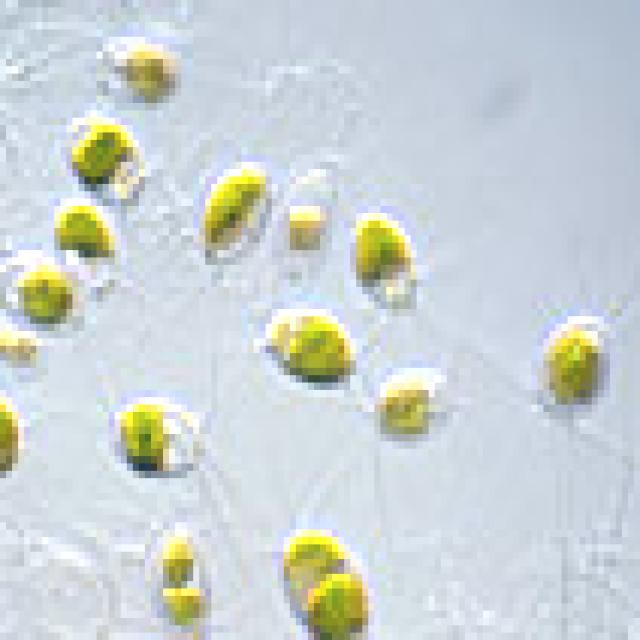Green Algae: (72, 368, 236, 522), (254, 463, 386, 640), (513, 280, 640, 456), (344, 191, 453, 353), (181, 140, 290, 294), (54, 103, 169, 228), (138, 507, 229, 640), (18, 198, 163, 280), (248, 294, 362, 397), (362, 353, 465, 464), (66, 22, 200, 96), (6, 250, 97, 331)
